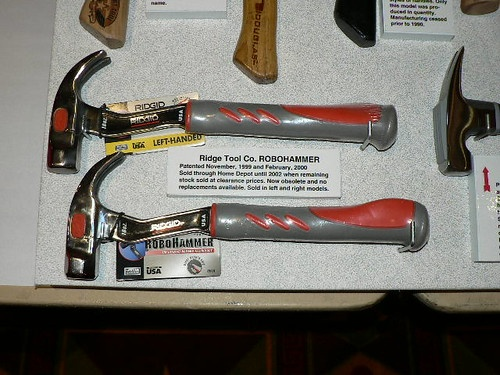hammer: (46, 153, 434, 285), (46, 49, 400, 177), (434, 45, 500, 178)
